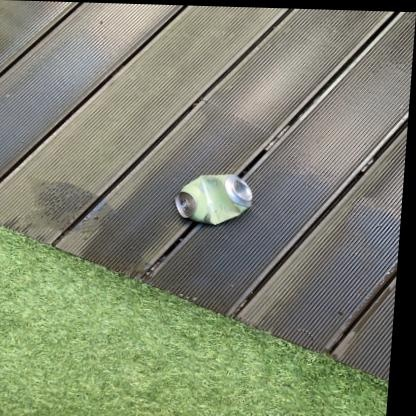trash: (175, 175, 251, 224)
